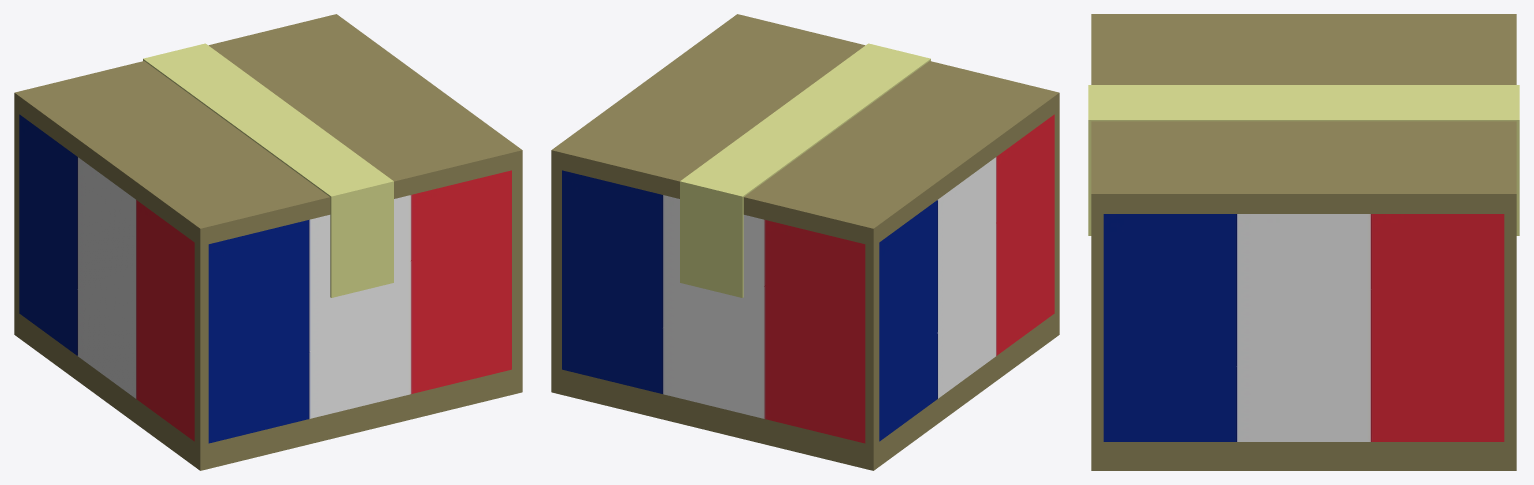
The model's file is norm_batuette_box.fbx.
The picture shows the model from 3 angles, left to right: view 1: azimuth 30°, elevation 25°; view 2: azimuth 150°, elevation 25°; view 3: azimuth 270°, elevation 25°; orthographic projection. The views are drawn at different scales.
Parts seen in each view (by area): view 1: Cube, ff.002, ff.001, Cube.001; view 2: Cube, ff.003, ff.001, Cube.001; view 3: ff, Cube, Cube.001.
Boxes of the visible parts, x1,y1,x2,y2 form: Cube: [14, 14, 522, 470]; ff.002: [208, 170, 511, 443]; ff.001: [19, 114, 194, 441]; Cube.001: [143, 43, 393, 297]; Cube: [551, 14, 1059, 470]; ff.003: [562, 170, 865, 443]; ff.001: [879, 114, 1054, 441]; Cube.001: [680, 43, 930, 297]; ff: [1103, 214, 1504, 441]; Cube: [1091, 14, 1516, 470]; Cube.001: [1088, 85, 1519, 235].
Size of the model in its own units: 104 by 75.29 by 106.
